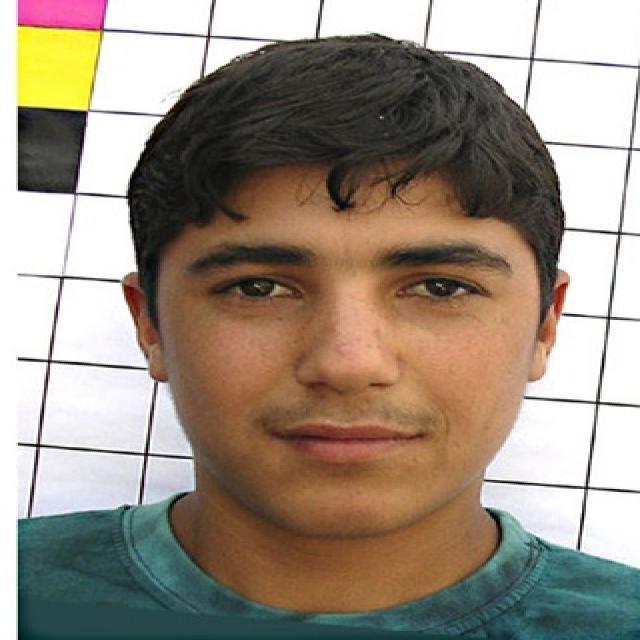Nonhelmet: (112, 20, 574, 547)
